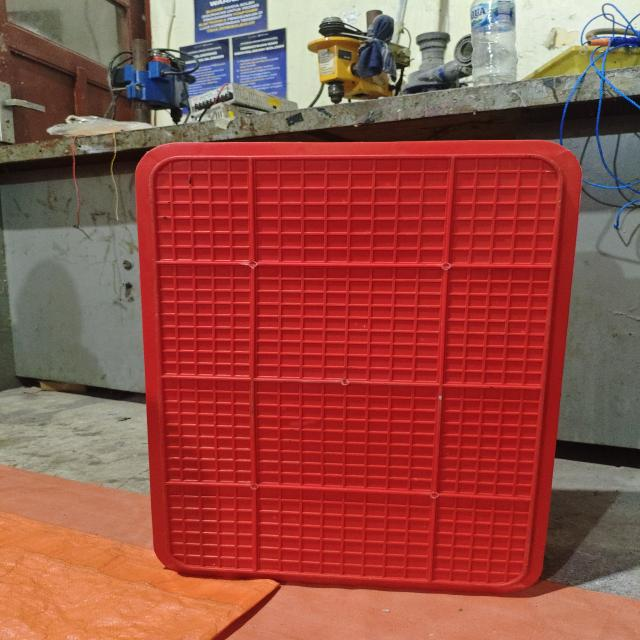red plastic box: (135, 140, 582, 593)
